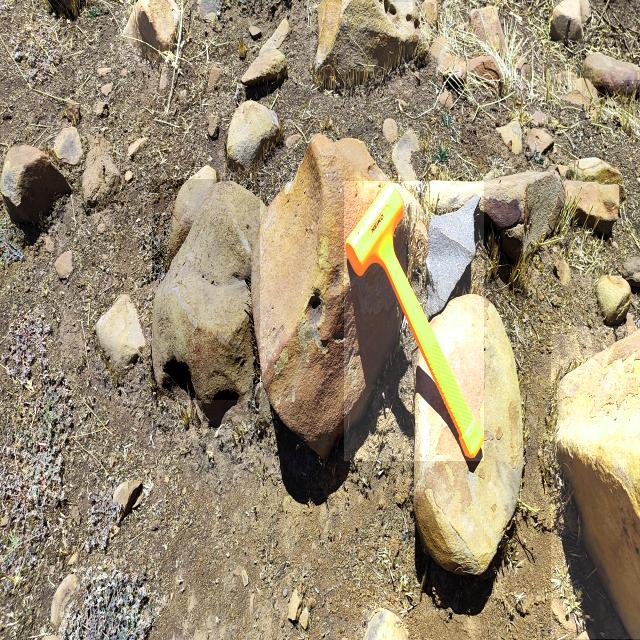Orange_hammer: (344, 181, 484, 461)
rock: (551, 326, 640, 639), (152, 179, 260, 400), (310, 2, 413, 94), (1, 144, 64, 221), (120, 0, 184, 66), (96, 293, 145, 377), (582, 54, 640, 108), (550, 0, 596, 42), (361, 602, 408, 640)
